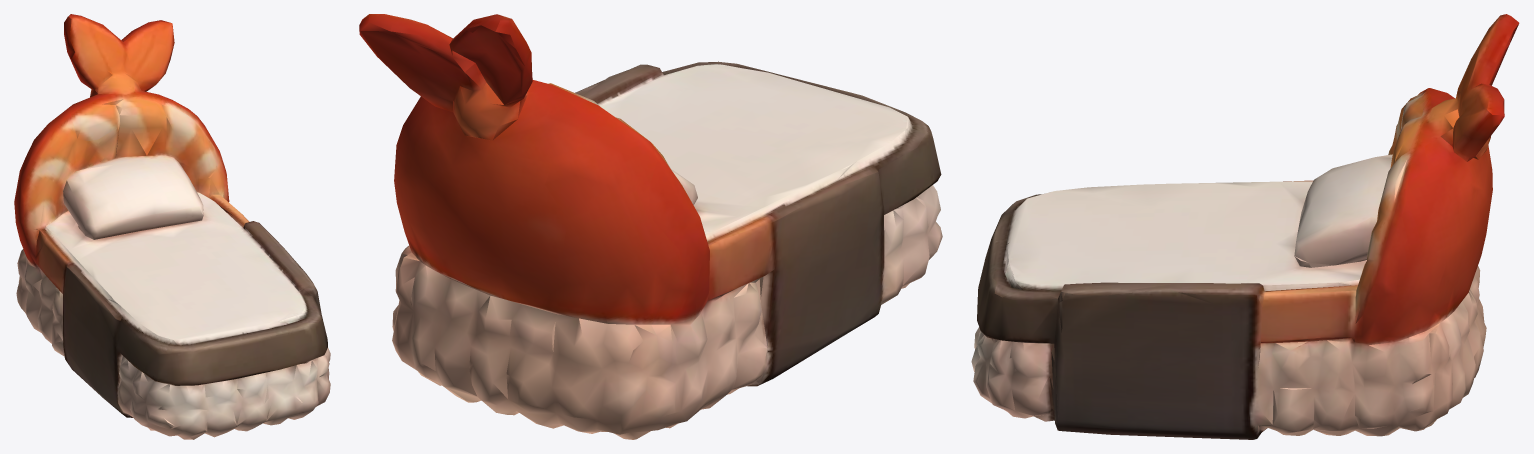
Rendered from bed04.glb.
The picture shows the model from 3 angles, left to right: view 1: azimuth 30°, elevation 25°; view 2: azimuth 150°, elevation 25°; view 3: azimuth 270°, elevation 25°; orthographic projection. The views are drawn at different scales.
Size of the model in its own units: 0.1896 by 0.2389 by 0.3172.
Materials: 1 (1 with a texture image).
